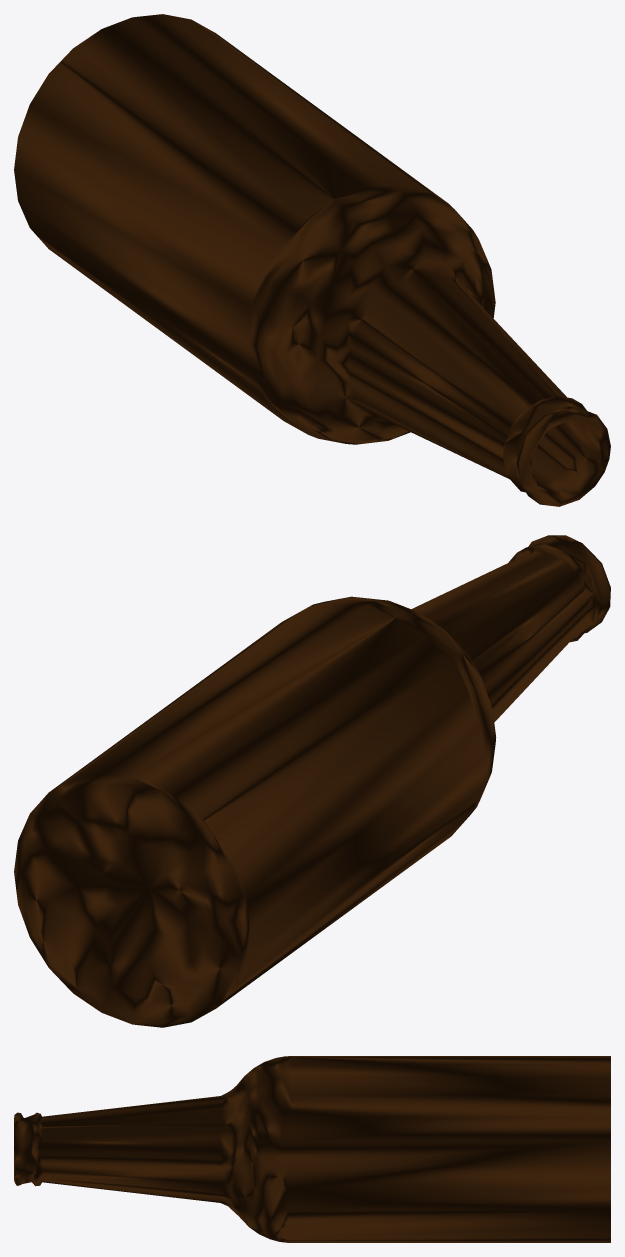
The model's file is model_align.obj.
3 views of the same model, one above another, from view 1: azimuth 30°, elevation 25°; view 2: azimuth 150°, elevation 25°; view 3: azimuth 270°, elevation 25° (orthographic). The views are drawn at different scales.
Size of the model in its own units: 0.0762 by 0.0762 by 0.2423.
